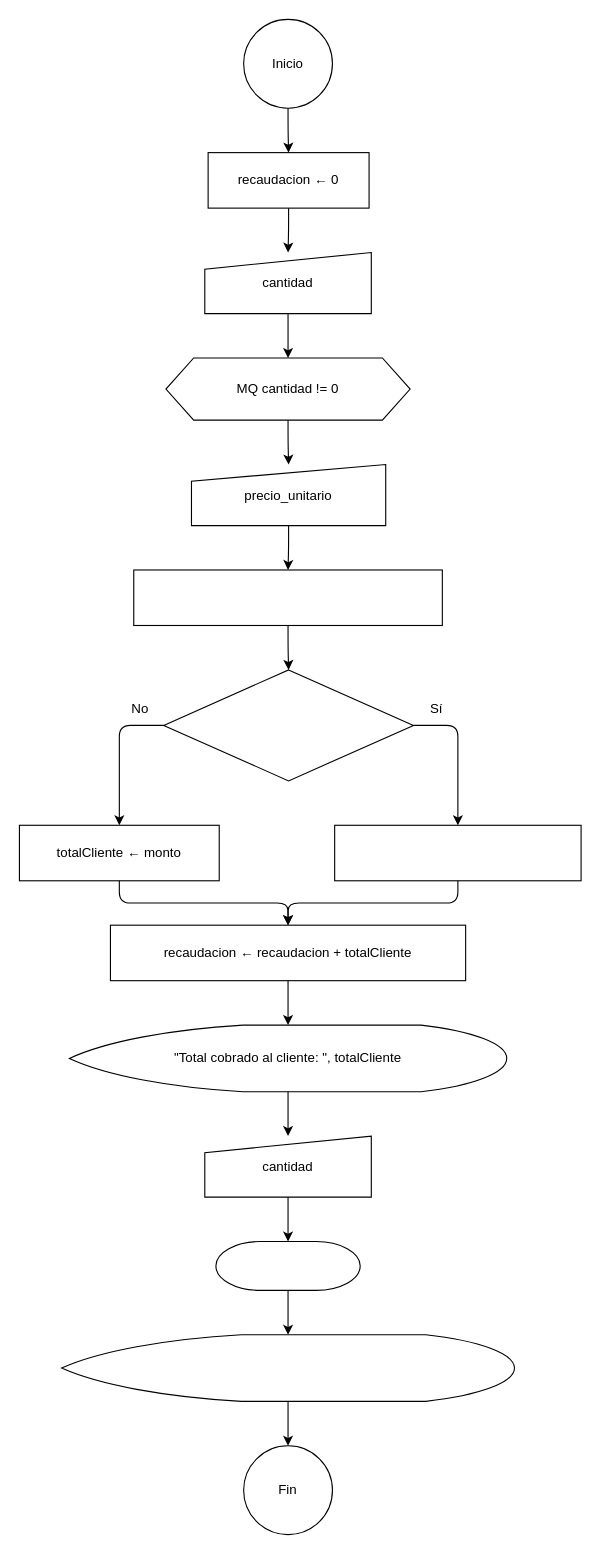
The diagram is 601 pixels wide and 1554 high, and some of its shapes have lost their labels. The shapes that lost their labels are listed below. From the top down, each one's box as (x1, y1, x2, y2) in pixels, then its label:
(133, 569, 442, 625): monto ← cantidad * precio_unitario
(163, 669, 413, 781): monto > 15000
(334, 824, 581, 881): totalCliente ← monto * 0.9
(215, 1240, 360, 1290): Fin (MQ)
(60, 1334, 514, 1401): "Recaudación general del día: ", recaudacion
